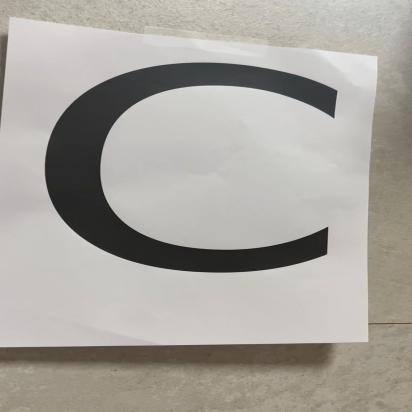seat: (35, 26, 389, 355)
